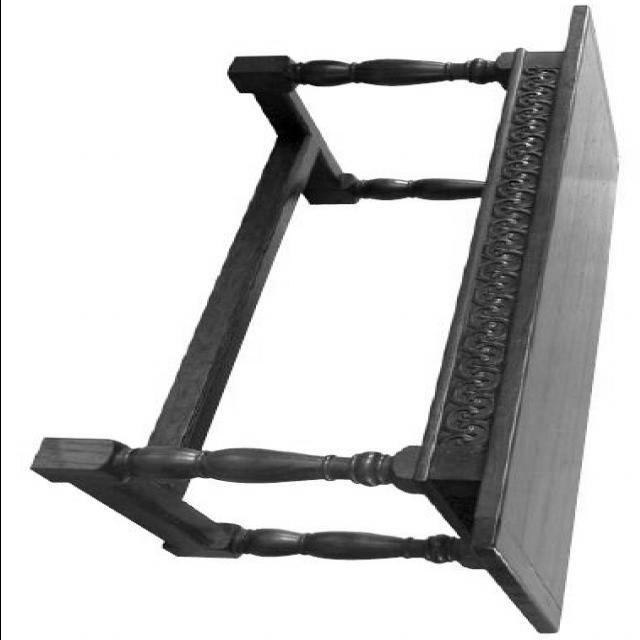table: (32, 6, 622, 634)
